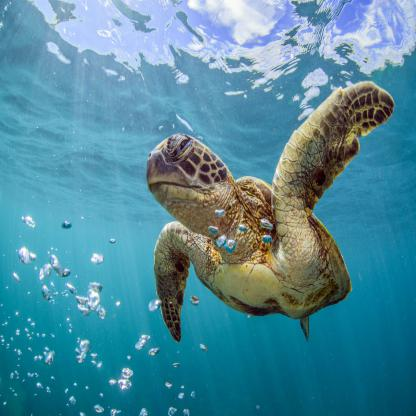turtle: (142, 127, 236, 239)
